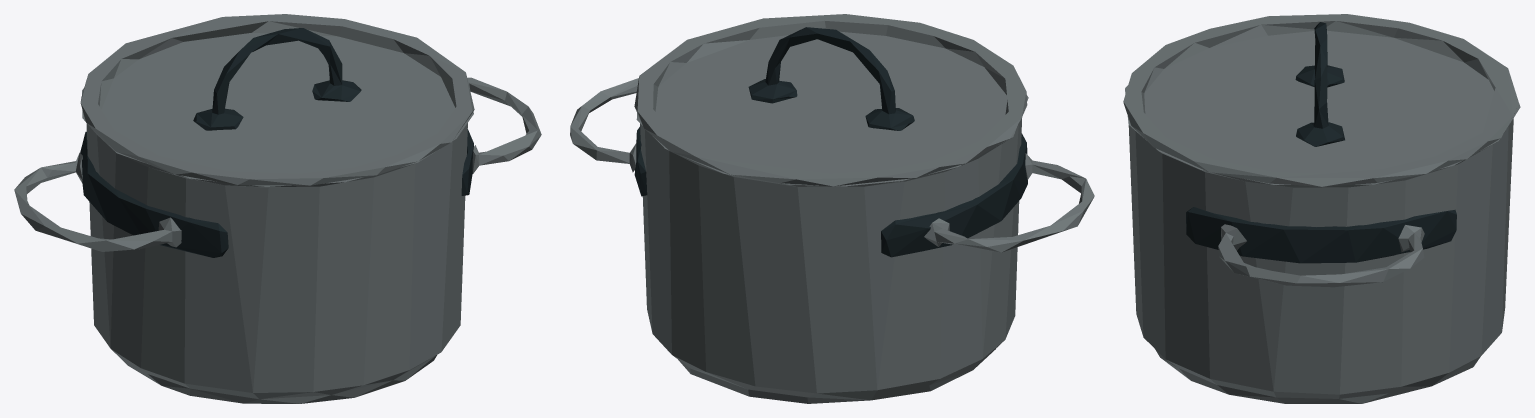
Rendered from Pot03.fbx.
The picture shows the model from 3 angles, left to right: view 1: azimuth 30°, elevation 25°; view 2: azimuth 150°, elevation 25°; view 3: azimuth 270°, elevation 25°; orthographic projection.
Visible parts, largest first — view 1: Pot03LowPoly, Pot03LidLowPoly; view 2: Pot03LowPoly, Pot03LidLowPoly; view 3: Pot03LowPoly, Pot03LidLowPoly.
Boxes of the visible parts, x1,y1,x2,y2 form: Pot03LowPoly: (14,77,541,403); Pot03LidLowPoly: (80,14,474,185); Pot03LowPoly: (570,78,1094,403); Pot03LidLowPoly: (634,14,1027,186); Pot03LowPoly: (1125,85,1520,403); Pot03LidLowPoly: (1123,14,1519,186).
Size of the model in its own units: 28.62 by 16.99 by 20.03.
